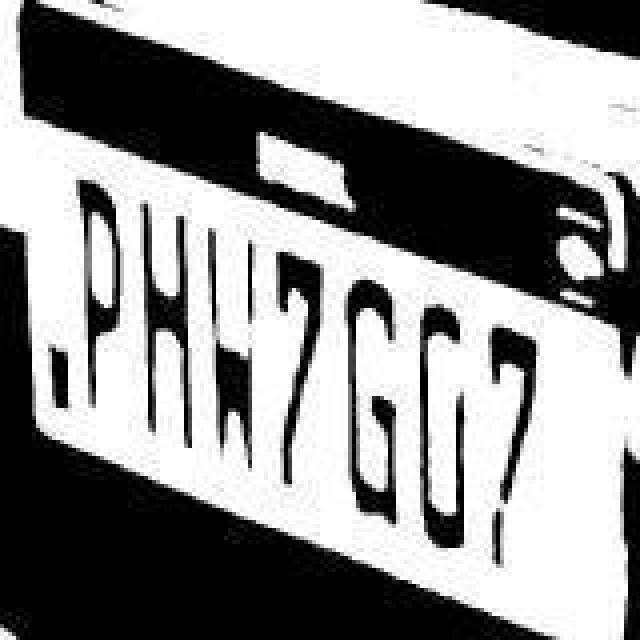7: (476, 310, 548, 586), (274, 242, 334, 502)
D: (410, 296, 470, 560)
G: (342, 266, 410, 534)
H: (134, 202, 202, 454)
P: (70, 176, 138, 416)
W: (204, 222, 268, 474)
